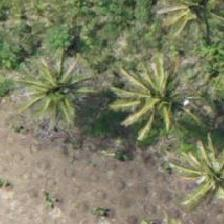coconut_tree: (22, 40, 112, 130), (112, 52, 202, 142), (175, 133, 223, 223), (153, 0, 223, 57)
